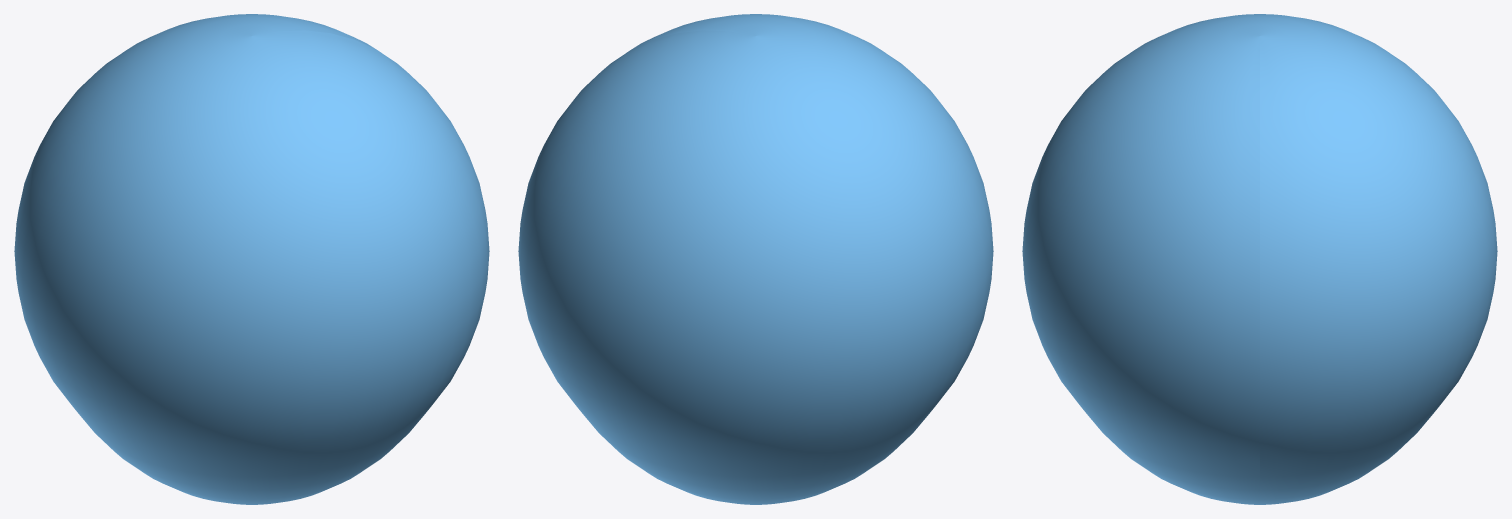
Rendered from ball.glb.
3 renders of one model, left to right at view 1: azimuth 30°, elevation 25°; view 2: azimuth 150°, elevation 25°; view 3: azimuth 270°, elevation 25°, orthographic.
Bounding box in the file's own units: 0.64 × 0.6784 × 0.64.
